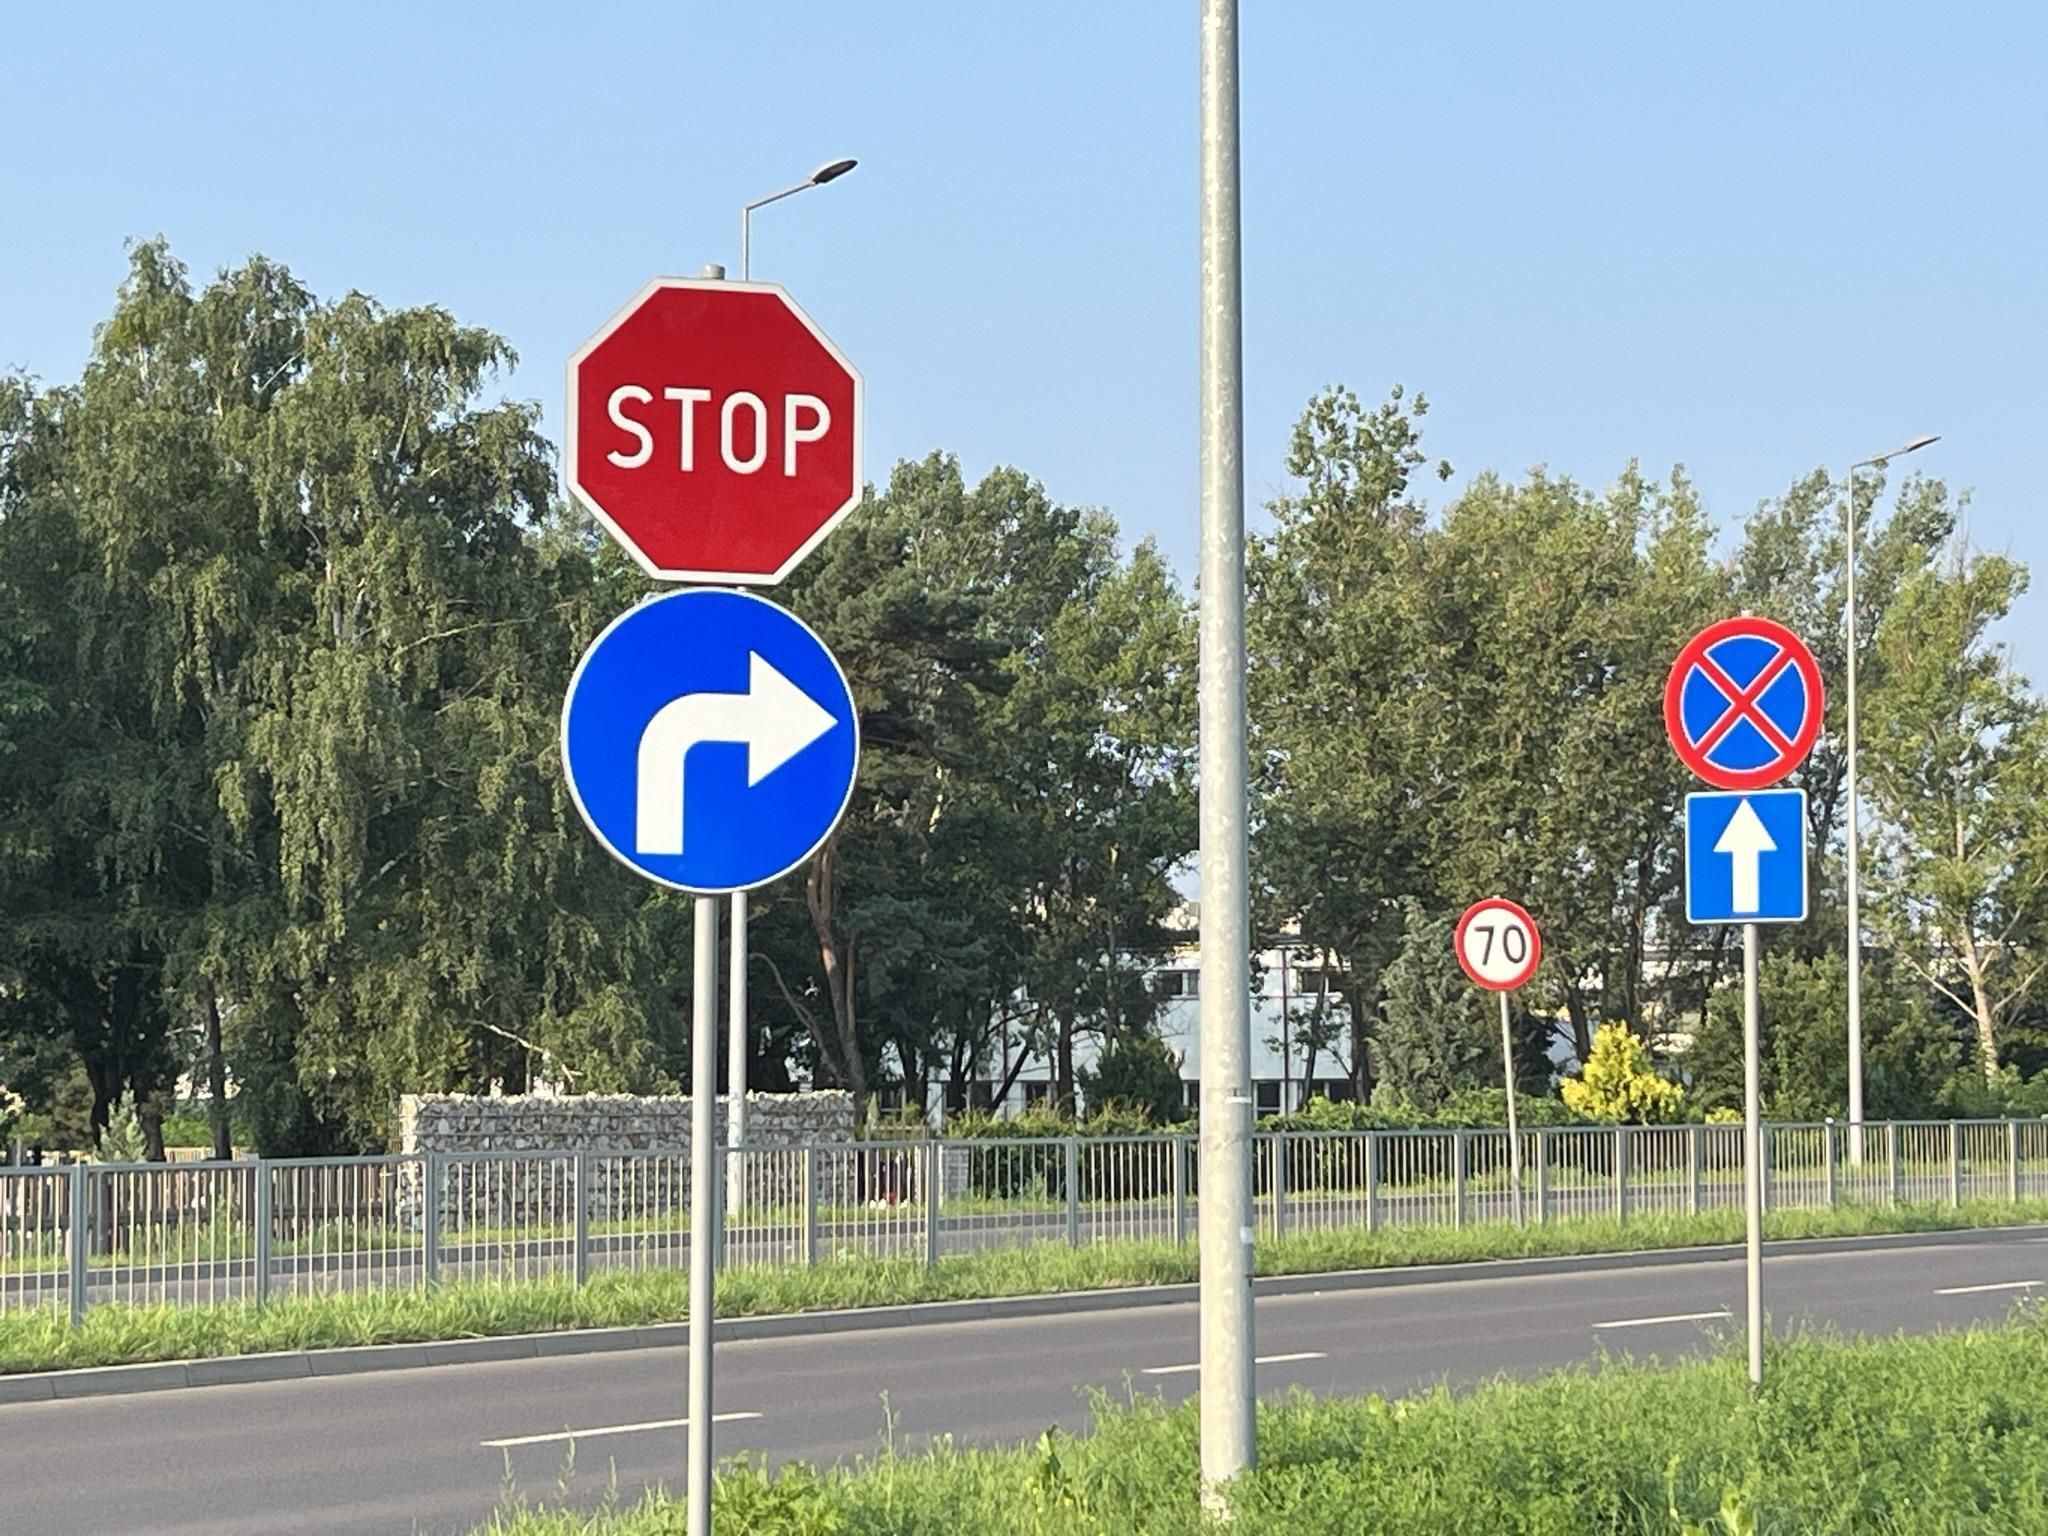information: (1685, 792, 1806, 918)
mandatory: (560, 584, 860, 895)
prohibitory: (568, 276, 864, 591), (1664, 615, 1825, 792), (1453, 897, 1545, 992)
